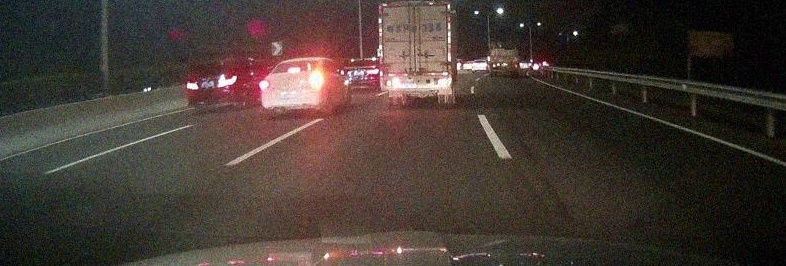L_light: (187, 81, 199, 89), (261, 81, 269, 88), (388, 80, 395, 86)
R_light: (217, 77, 237, 87), (311, 76, 324, 86), (439, 80, 447, 85)
T_light: (289, 68, 300, 72), (410, 5, 420, 8), (207, 64, 216, 66)
night-no: (377, 0, 452, 106), (185, 56, 239, 111)
night-right: (260, 57, 326, 118)
